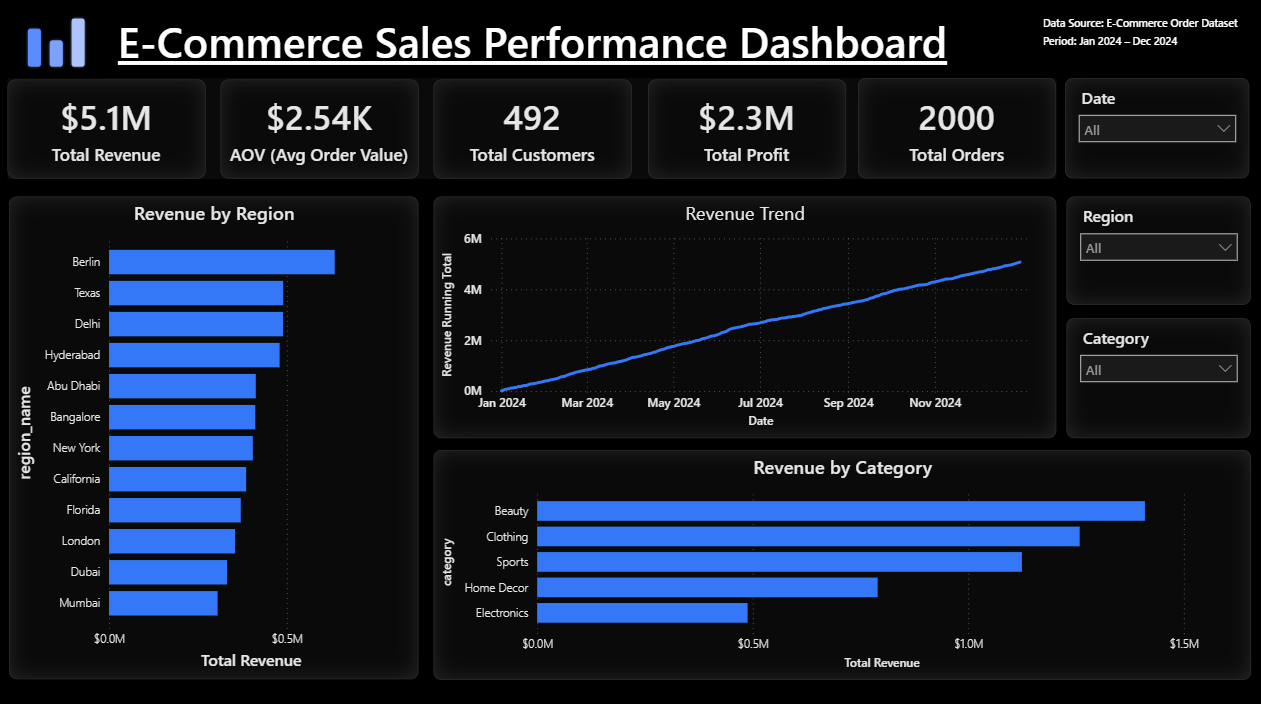

The page's visual inventory and layout, read from the dashboard file:
{"tool":"powerbi","page":{"name":"Page 1","canvas":[1280,720],"ordinal":0},"visuals":[{"type":"card","fields":{"Values":["Measures (2).Total Revenue"]},"box":[10.6,83.1,199.9,100.2],"z":0,"group":"g1"},{"type":"textbox","box":[93.9,10.6,893.4,71.2],"z":0},{"type":"card","fields":{"Values":["Measures (2).Total Profit"]},"box":[657.2,83.1,199.9,100.2],"z":1000,"group":"g1"},{"type":"group","id":"g1","title":"Group 1","box":[10.6,81.8,1058.4,101.5],"z":1000},{"type":"card","fields":{"Values":["Measures (2).Total Orders"]},"box":[869.2,81.8,199.9,101.5],"z":2000,"group":"g1"},{"type":"lineChart","title":"Revenue Trend","fields":{"Category":["Dates.Date"],"Y":["Measures (2).Revenue Running Total"]},"box":[440.6,201.4,628.4,243.8],"z":2000},{"type":"card","fields":{"Values":["Measures (2).AOV (Avg Order Value)"]},"box":[225.6,83.1,199.9,100.2],"z":3000,"group":"g1"},{"type":"barChart","title":"Revenue by Region","fields":{"Category":["regions.region_name"],"Y":["Measures (2).Total Revenue"]},"box":[12.1,201.4,413.4,487.6],"z":3000},{"type":"card","fields":{"Values":["Measures (2).Total Customers"]},"box":[440.6,83.1,199.9,100.2],"z":4000,"group":"g1"},{"type":"barChart","title":"Revenue by Category","fields":{"Category":["products.category"],"Y":["Measures (2).Total Revenue"]},"box":[440.6,457.3,825.2,231.7],"z":4000},{"type":"slicer","fields":{"Values":["Dates.Date"]},"box":[1078.1,81.8,186.2,101.5],"z":5000},{"type":"slicer","fields":{"Values":["regions.region_name"]},"box":[1079.6,201.4,186.2,109],"z":6000},{"type":"slicer","fields":{"Values":["products.category"]},"box":[1079.6,324,186.2,121.1],"z":7000},{"type":"image","box":[10.6,10.6,98.4,71.2],"z":8000},{"type":"textbox","box":[1050.9,10.6,214,64],"z":9000}]}

Visuals, with their boxes in screenshot pixels (x1, y1, x2, y2), scaled from the page's 1280x720 canvas onto the 1261x704 screenshot:
card - Measures (2).Total Revenue: pyautogui.locateOnScreen(10, 81, 207, 179)
textbox: pyautogui.locateOnScreen(93, 10, 973, 80)
card - Measures (2).Total Profit: pyautogui.locateOnScreen(647, 81, 844, 179)
"Group 1" group: pyautogui.locateOnScreen(10, 80, 1053, 179)
card - Measures (2).Total Orders: pyautogui.locateOnScreen(856, 80, 1053, 179)
"Revenue Trend" lineChart: pyautogui.locateOnScreen(434, 197, 1053, 435)
card - Measures (2).AOV (Avg Order Value): pyautogui.locateOnScreen(222, 81, 419, 179)
"Revenue by Region" barChart: pyautogui.locateOnScreen(12, 197, 419, 674)
card - Measures (2).Total Customers: pyautogui.locateOnScreen(434, 81, 631, 179)
"Revenue by Category" barChart: pyautogui.locateOnScreen(434, 447, 1247, 674)
slicer - Dates.Date: pyautogui.locateOnScreen(1062, 80, 1246, 179)
slicer - regions.region_name: pyautogui.locateOnScreen(1064, 197, 1247, 304)
slicer - products.category: pyautogui.locateOnScreen(1064, 317, 1247, 435)
image: pyautogui.locateOnScreen(10, 10, 107, 80)
textbox: pyautogui.locateOnScreen(1035, 10, 1246, 73)
